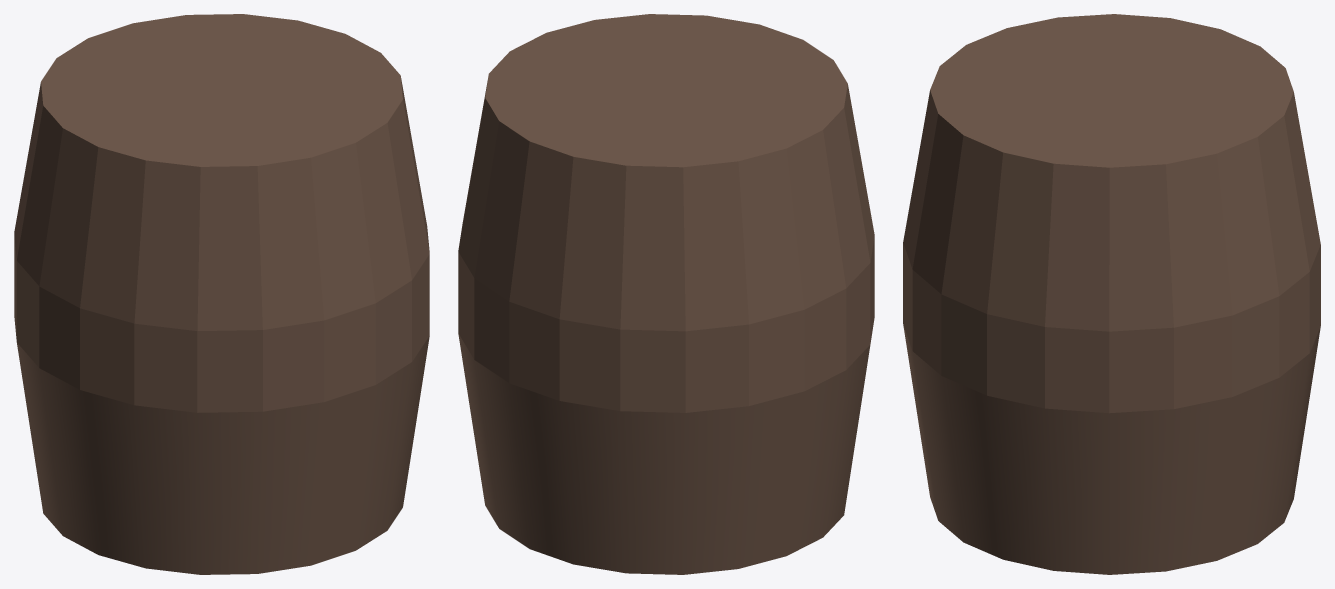
Rendered from bucket.fbx.
The picture shows the model from 3 angles, left to right: view 1: azimuth 30°, elevation 25°; view 2: azimuth 150°, elevation 25°; view 3: azimuth 270°, elevation 25°; orthographic projection.
Parts seen in each view (by area): view 1: pCylinder70; view 2: pCylinder70; view 3: pCylinder70.
Part boxes in pixels (box(x1,y1,x2,y2)): pCylinder70: box(14, 14, 429, 574); pCylinder70: box(458, 14, 874, 574); pCylinder70: box(903, 14, 1320, 574).
Bounding box in the file's own units: 2.78 × 2.99 × 2.78.
